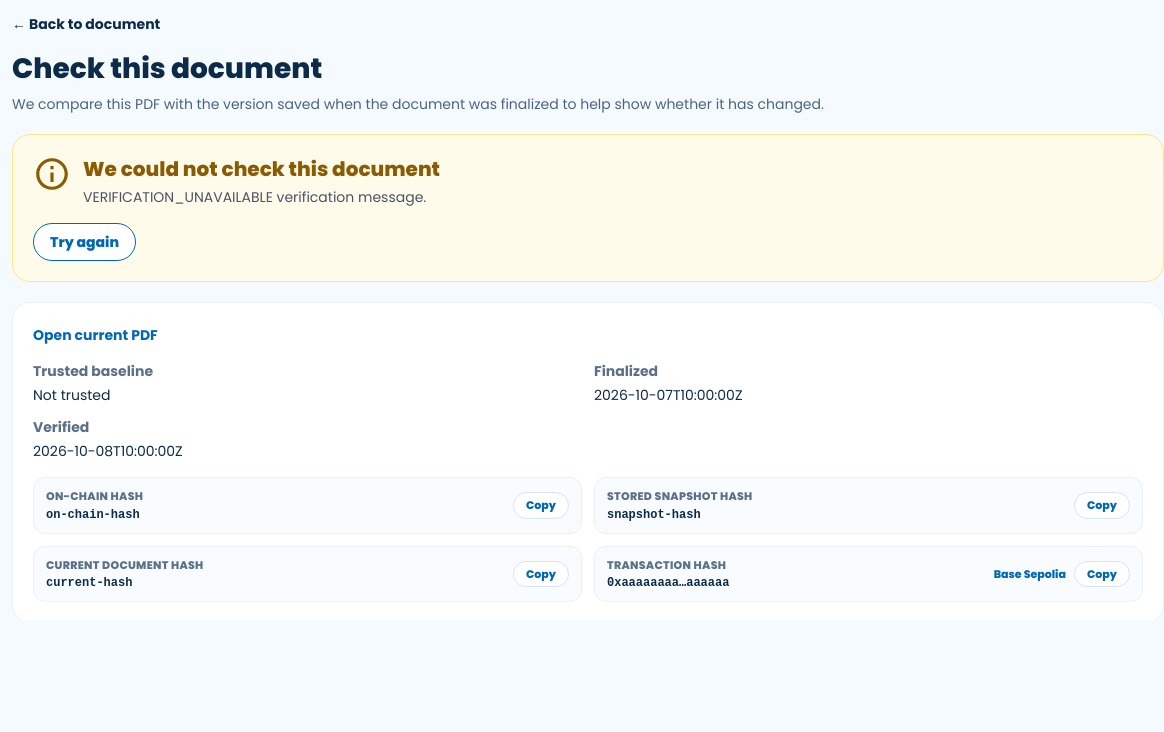
Test: DocumentVerifyPage › allows retry for VERIFICATION_UNAVAILABLE
The image size is (1164, 732).
Click the button "Try again": x=84, y=242 [33, 223, 136, 261]
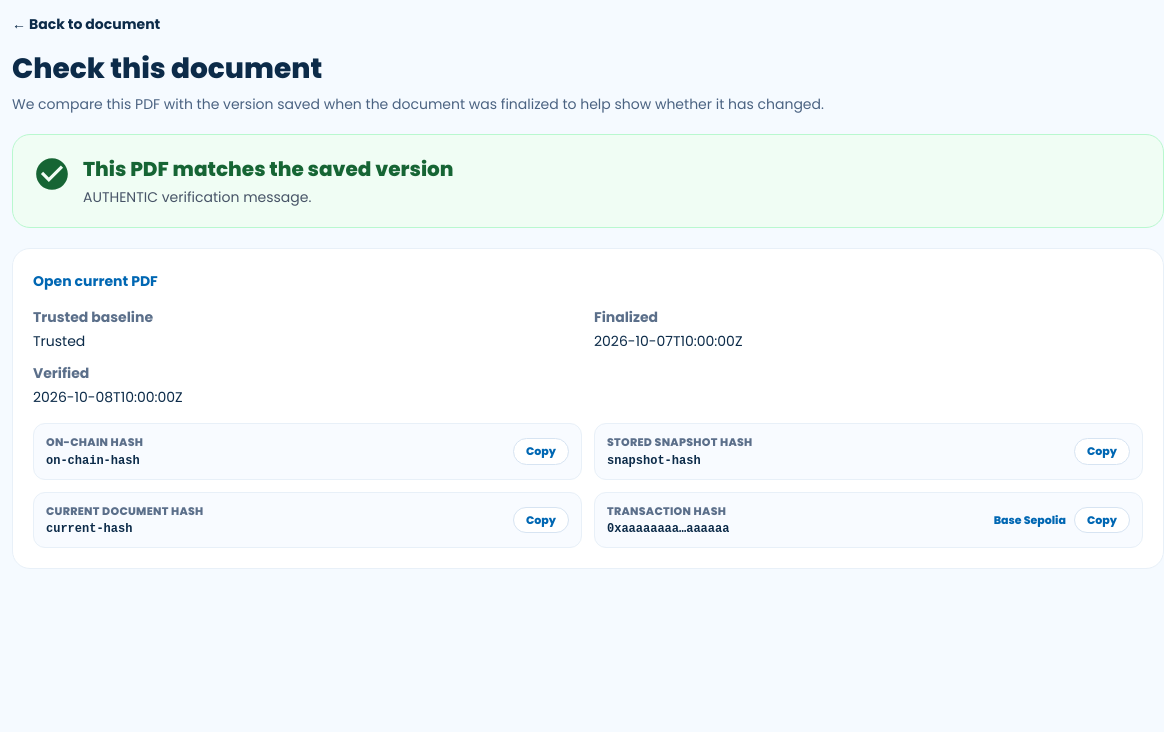
Result: the heading "This PDF matches the saved version" is shown at [83, 155, 454, 183]
